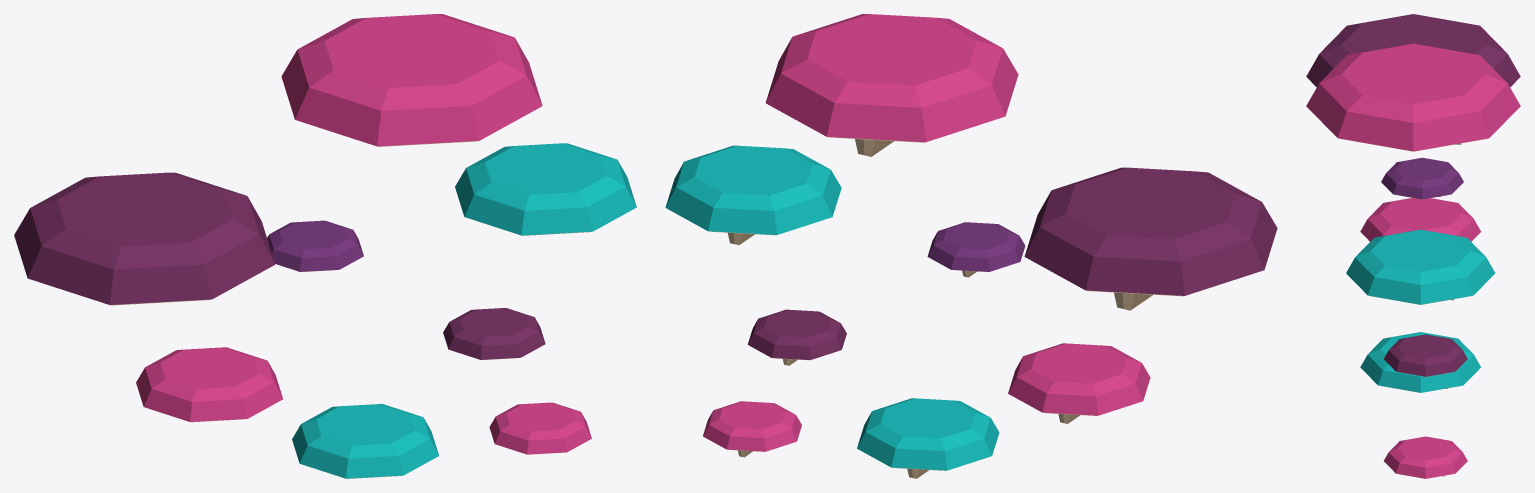
File: Garden_WallShroom02.fbx
3 views of the same model, side by side, from view 1: azimuth 30°, elevation 25°; view 2: azimuth 150°, elevation 25°; view 3: azimuth 270°, elevation 25° (orthographic). The views are drawn at different scales.
Parts seen in each view (by area): view 1: Cylinder.012; view 2: Cylinder.012; view 3: Cylinder.012.
Part boxes in pixels (left/top/right/bottom): Cylinder.012: left=14, top=14, right=636, bottom=478; Cylinder.012: left=665, top=14, right=1277, bottom=478; Cylinder.012: left=1306, top=14, right=1520, bottom=478.
Size of the model in its own units: 109 by 75.42 by 42.11.
